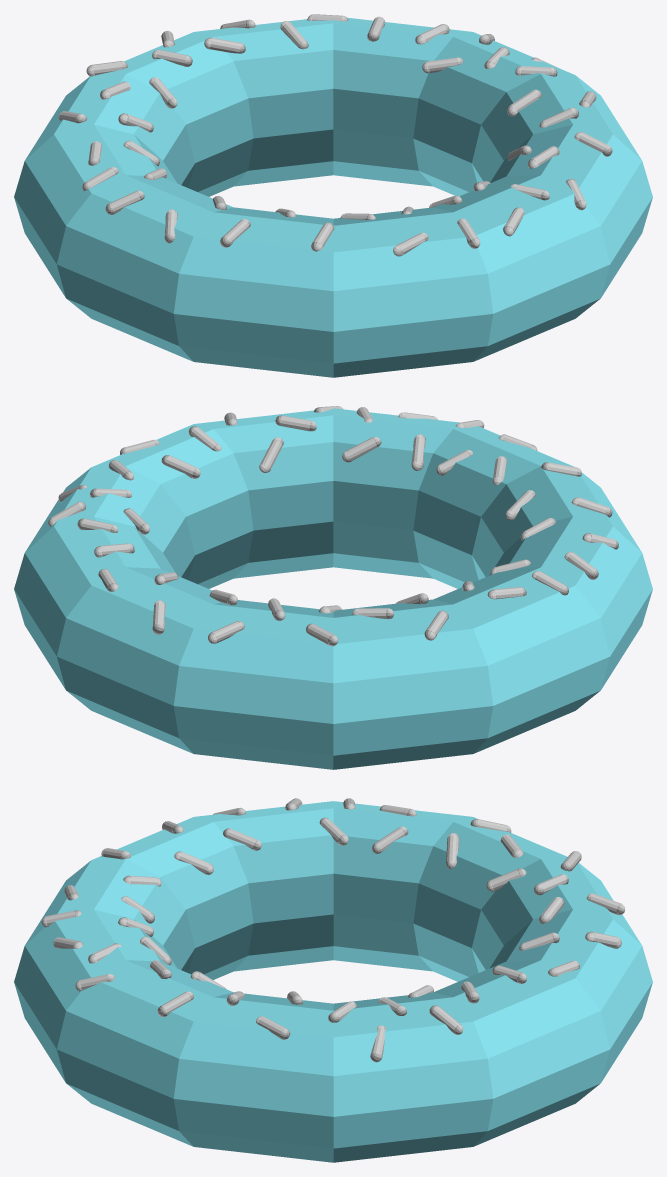
File: blue.obj
3 renders of one model, top to bottom at view 1: azimuth 30°, elevation 25°; view 2: azimuth 150°, elevation 25°; view 3: azimuth 270°, elevation 25°, orthographic.
Parts seen in each view (by area): view 1: group946944242; view 2: group946944242; view 3: group946944242.
Boxes of the visible parts, x1,y1,x2,y2 form: group946944242: (14,17,652,377); group946944242: (14,408,652,769); group946944242: (14,801,652,1162).
Bounding box in the file's own units: 1.05 × 0.2754 × 1.05.
